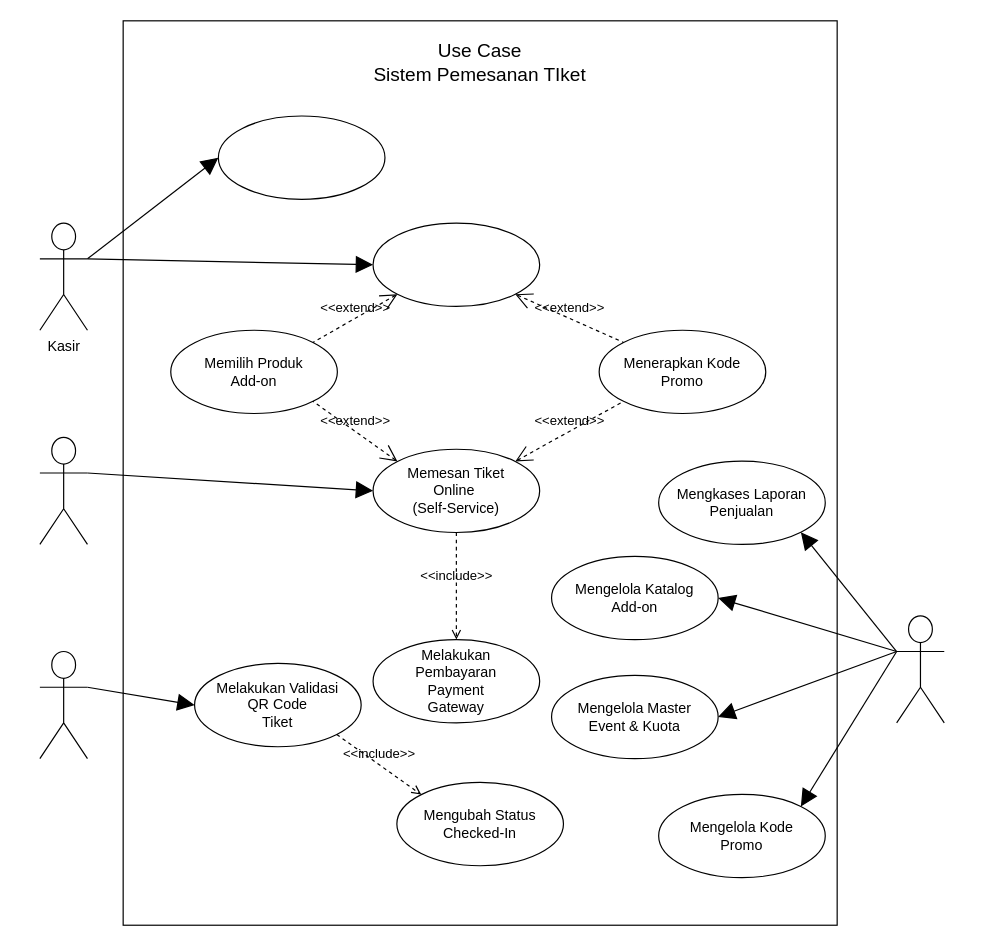
This 983x946 diagram has some shape labels left out. The box of each missing label's shape, as (x1, y1, x2, y2) in pixels:
Administrator: (895, 615, 944, 723)
Melakukan Pembayaran Kasir & Cetak Struk: (217, 115, 385, 199)
Menginput Transaksi Tiket: (372, 222, 540, 306)
Pengunjung/ Customer: (39, 436, 87, 544)
Petugas Gate: (39, 650, 87, 759)
